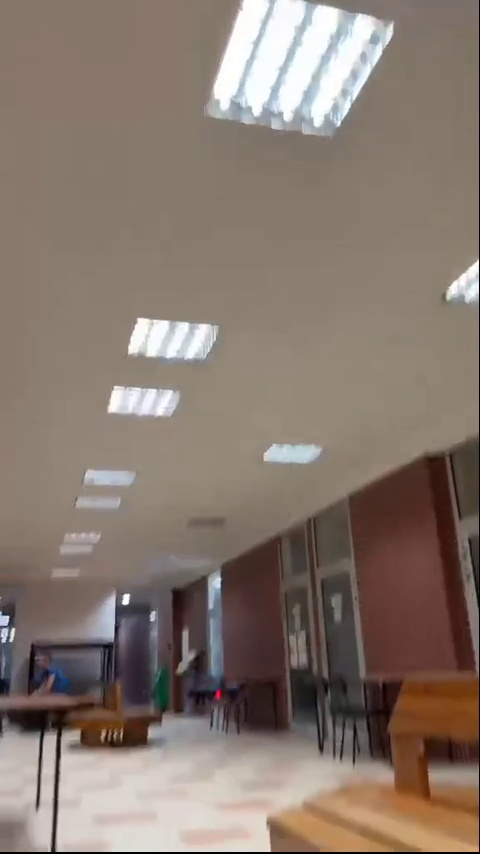drone: (194, 688, 250, 705)
no vest: (29, 649, 71, 704)
